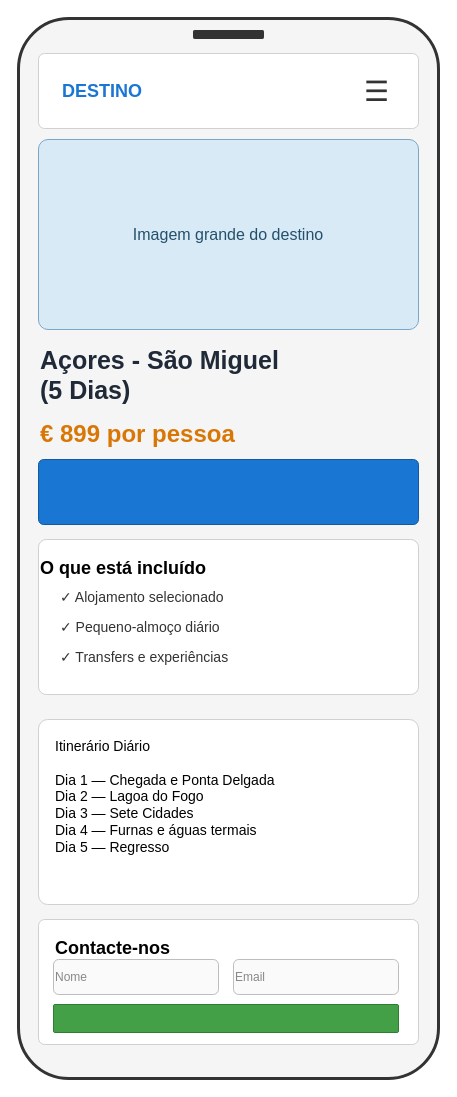
Image size: 457x1097. Some labels were removed from this diagram. Each missing label, with the centre of its shape:
"ENVIAR" belongs at point (225, 1018).
"RESERVAR" belongs at point (228, 491).
